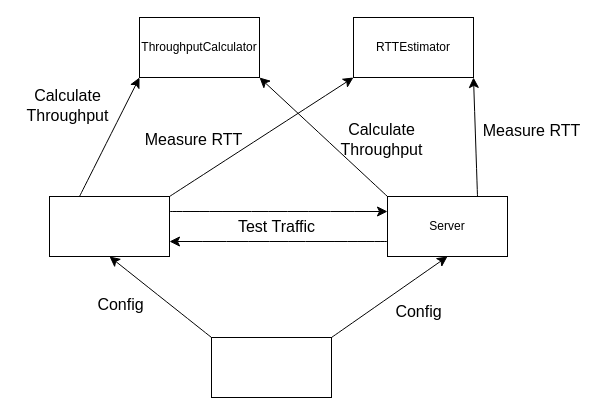
This 606x415 diagram has some shape labels left out. The shapes that lost their labels are listed below. From the top down, each one's centre as x and y in pixels, then its label:
point (109, 226): Client
point (271, 367): ArgumentProcessor
